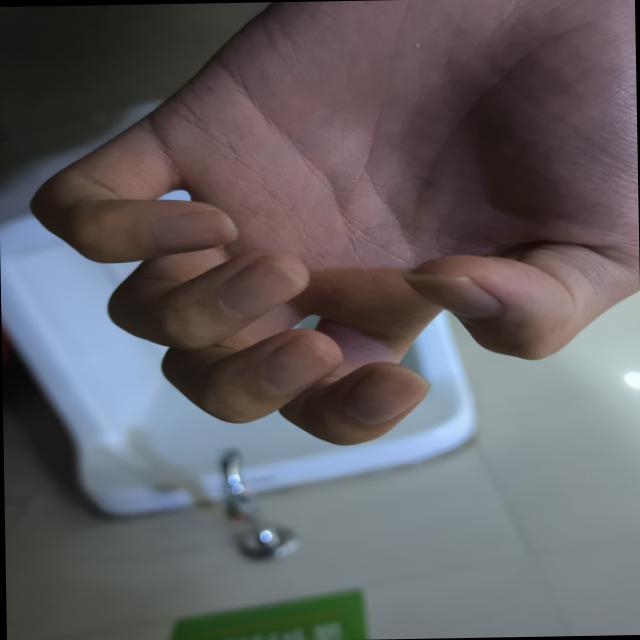Nail: (216, 258, 302, 317), (343, 366, 428, 422), (398, 272, 500, 317), (256, 337, 335, 392), (146, 210, 236, 249)
